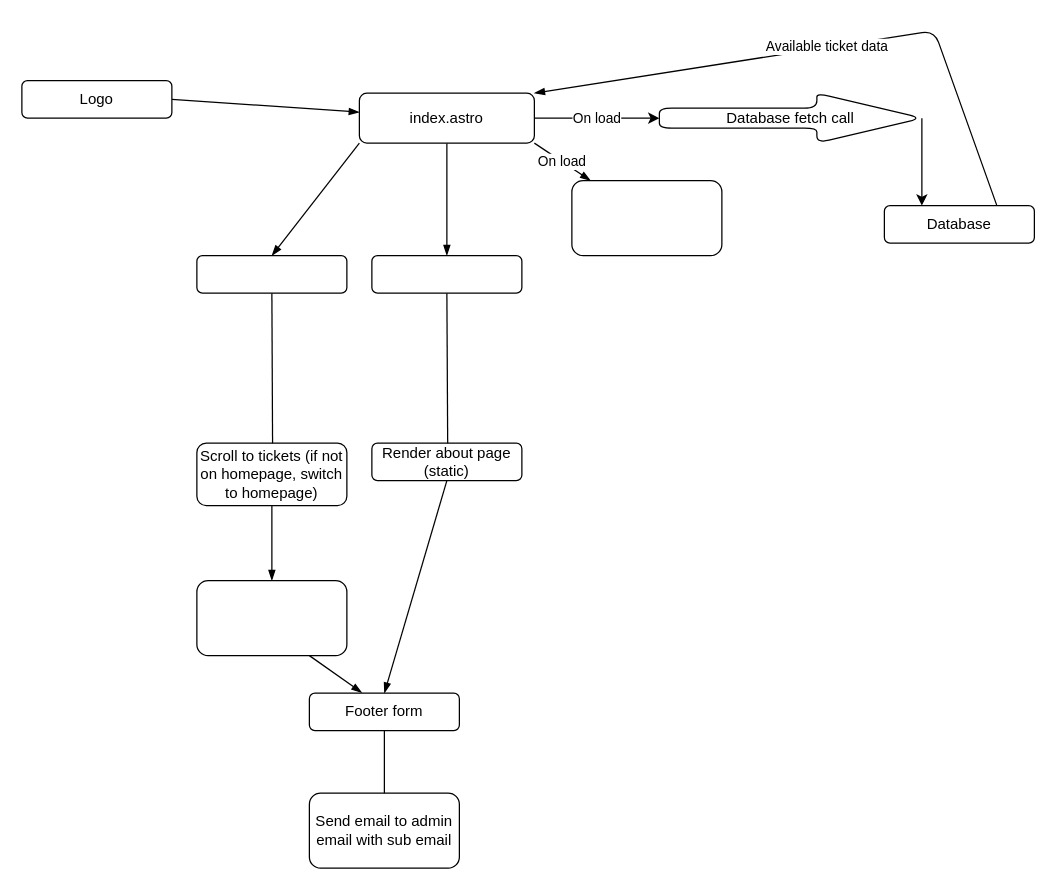
The diagram is 1056 pixels wide and 890 high, and some of its shapes have lost their labels. The centre of each missing label's shape, as x and y in pixels:
"About" belongs at [446,273].
"Render /ticket page based on which ticket was clicked" belongs at [271,617].
"Render tickets based database data" belongs at [646,217].
"Tickets" belongs at [271,273].
